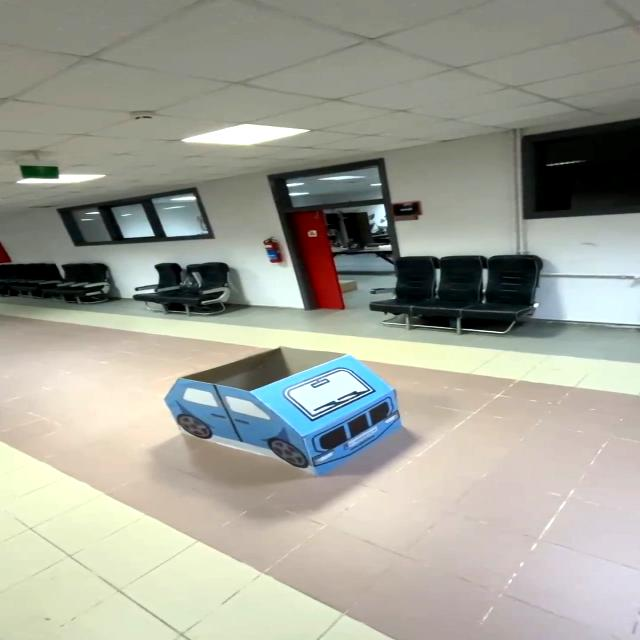blue_car: (135, 335, 423, 491)
